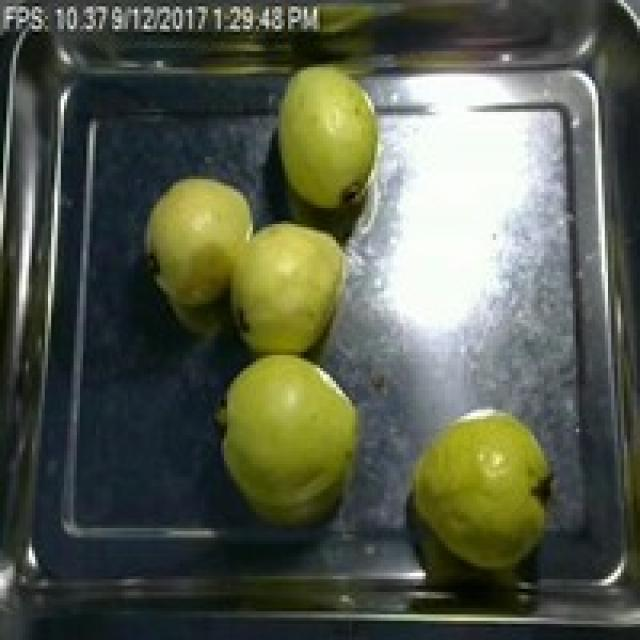Fruit: (211, 346, 371, 534), (397, 400, 563, 576), (215, 208, 362, 365), (268, 58, 394, 220), (137, 166, 266, 317)
